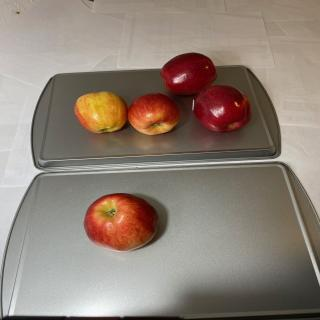Apple: (84, 193, 158, 252), (192, 85, 252, 132), (160, 52, 217, 96), (127, 92, 180, 136), (74, 91, 128, 134)
